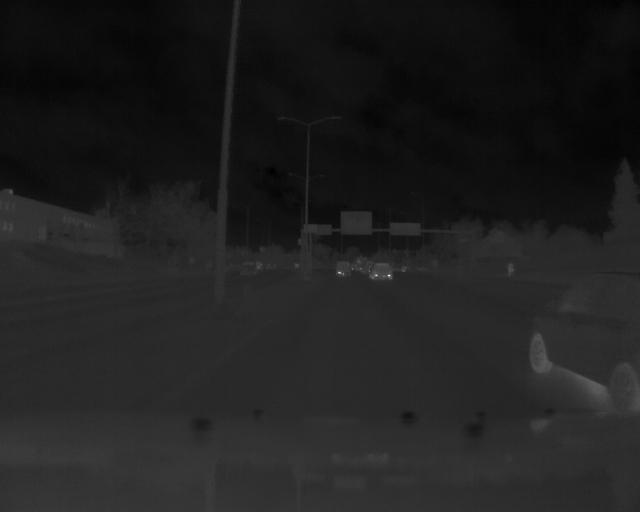car: (526, 265, 640, 412), (367, 261, 393, 281)
